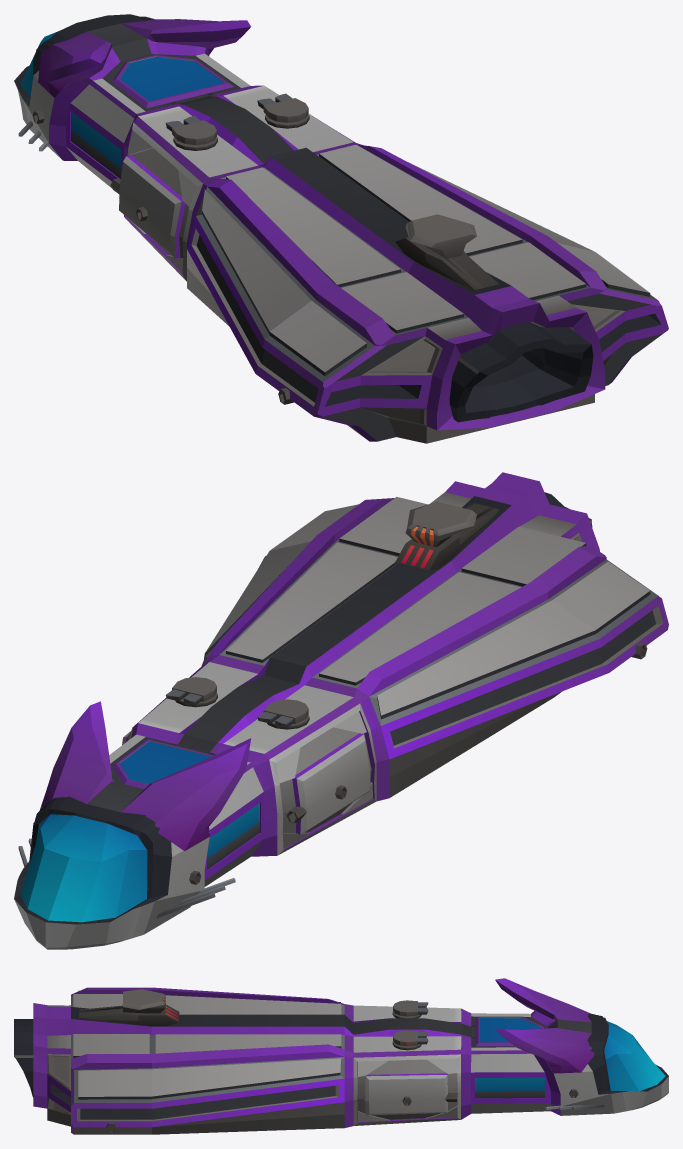
Rendered from SM_NewShip.fbx.
3 views of the same model, one above another, from view 1: azimuth 30°, elevation 25°; view 2: azimuth 150°, elevation 25°; view 3: azimuth 270°, elevation 25° (orthographic). The views are drawn at different scales.
Visible parts, largest first — view 1: Cube.010, Plane.002, Cube.011, Circle.012, Circle.013; view 2: Cube.010, Plane.002, Cube.011, Circle.013, Circle.012, Vert.001; view 3: Cube.010, Plane.002, Cube.011, Circle.012, Circle.013.
Part boxes in pixels (x1=…): Cube.010: x1=14, y1=14, x2=668, y2=443; Plane.002: x1=38, y1=19, x2=250, y2=97; Cube.011: x1=395, y1=214, x2=498, y2=289; Circle.012: x1=257, y1=93, x2=309, y2=128; Circle.013: x1=165, y1=116, x2=217, y2=150; Cube.010: x1=14, y1=472, x2=668, y2=949; Plane.002: x1=39, y1=701, x2=251, y2=851; Cube.011: x1=395, y1=501, x2=499, y2=570; Circle.013: x1=257, y1=699, x2=309, y2=729; Circle.012: x1=166, y1=677, x2=217, y2=707; Vert.001: x1=18, y1=838, x2=235, y2=917; Cube.010: x1=14, y1=987, x2=668, y2=1134; Plane.002: x1=495, y1=978, x2=594, y2=1073; Cube.011: x1=79, y1=989, x2=179, y2=1026; Circle.012: x1=392, y1=1030, x2=428, y2=1050; Circle.013: x1=392, y1=1000, x2=428, y2=1018.
Size of the model in its own units: 628 by 243 by 1477.
